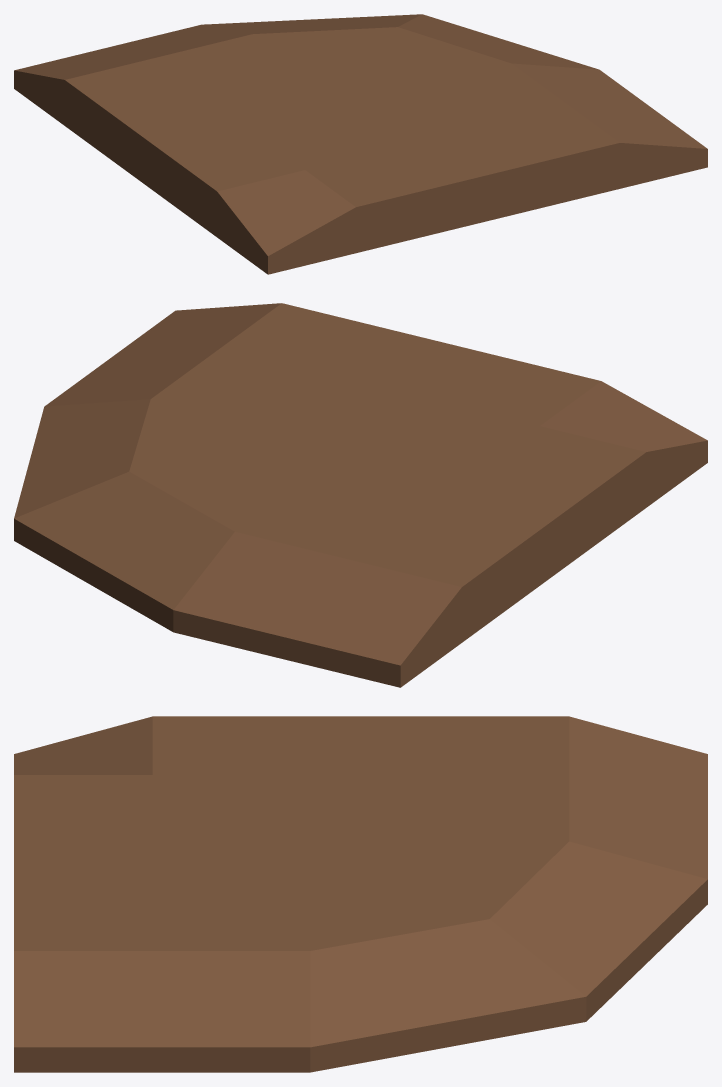
File: street_curve.fbx
3 views of the same model, one above another, from view 1: azimuth 30°, elevation 25°; view 2: azimuth 150°, elevation 25°; view 3: azimuth 270°, elevation 25° (orthographic). The views are drawn at different scales.
Visible parts, largest first — view 1: Cube; view 2: Cube; view 3: Cube.
Boxes of the visible parts, x1,y1,x2,y2 form: Cube: (14,14,707,274); Cube: (14,303,707,687); Cube: (14,716,707,1072).
Size of the model in its own units: 100 by 10 by 100.
